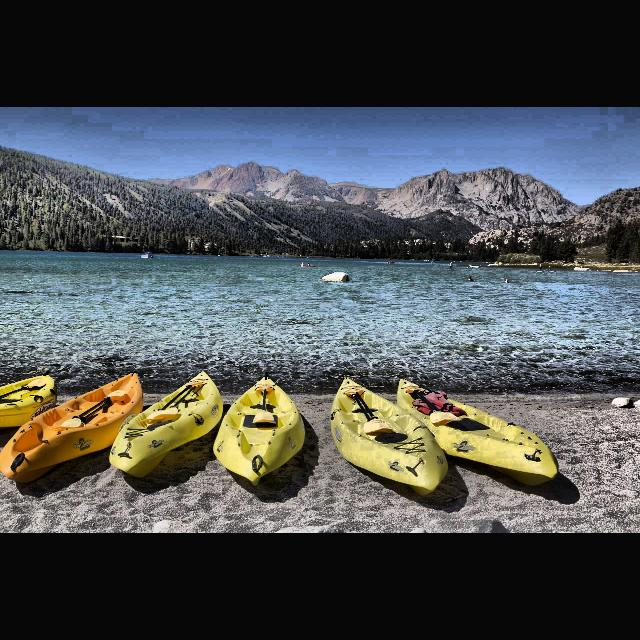kayak: (395, 376, 561, 492), (0, 372, 144, 486), (329, 376, 449, 498), (109, 370, 224, 480), (212, 372, 308, 490), (0, 371, 58, 432)
